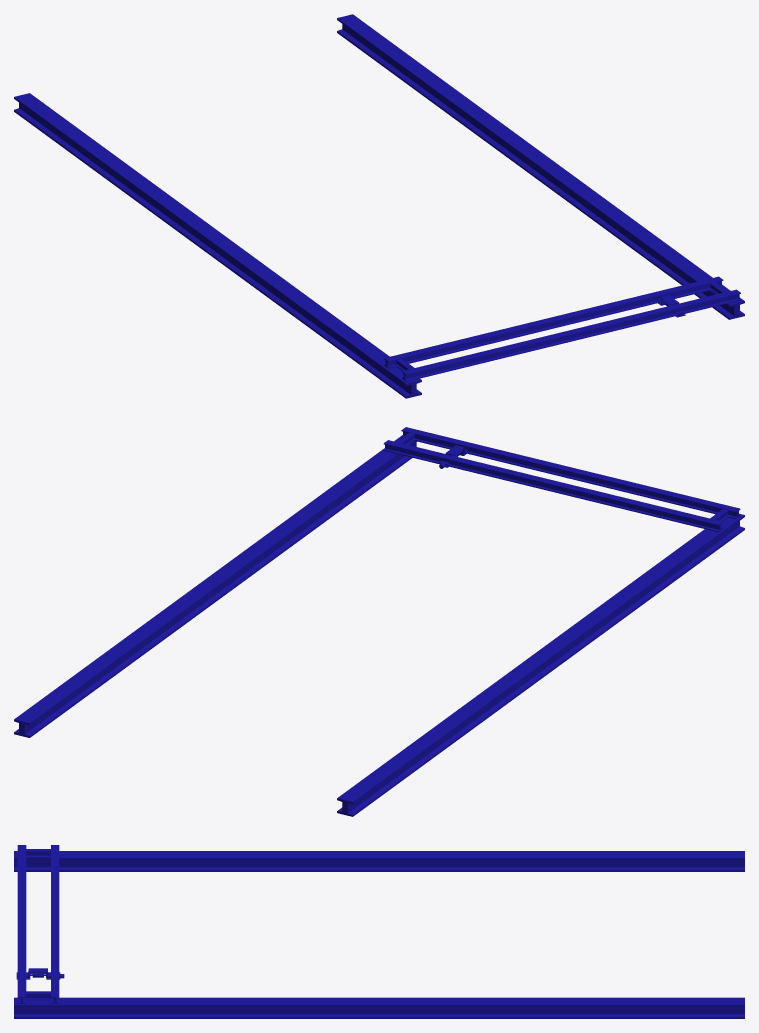
The model's file is BridgeCrane.fbx.
3 renders of one model, top to bottom at view 1: azimuth 30°, elevation 25°; view 2: azimuth 150°, elevation 25°; view 3: azimuth 270°, elevation 25°, orthographic. The views are drawn at different scales.
Visible parts, largest first — view 1: SiltanosturinJohteet, SiltanosturinJohteet.001; view 2: SiltanosturinJohteet, SiltanosturinJohteet.001; view 3: SiltanosturinJohteet, SiltanosturinJohteet.001.
Part boxes in pixels (left/top/right/bottom): SiltanosturinJohteet: left=14, top=14, right=744, bottom=398; SiltanosturinJohteet.001: left=384, top=276, right=740, bottom=381; SiltanosturinJohteet: left=14, top=435, right=744, bottom=816; SiltanosturinJohteet.001: left=383, top=427, right=740, bottom=531; SiltanosturinJohteet: left=14, top=851, right=744, bottom=1018; SiltanosturinJohteet.001: left=17, top=845, right=59, bottom=1003.
Bounding box in the file's own units: 1751 × 110 × 3509.
